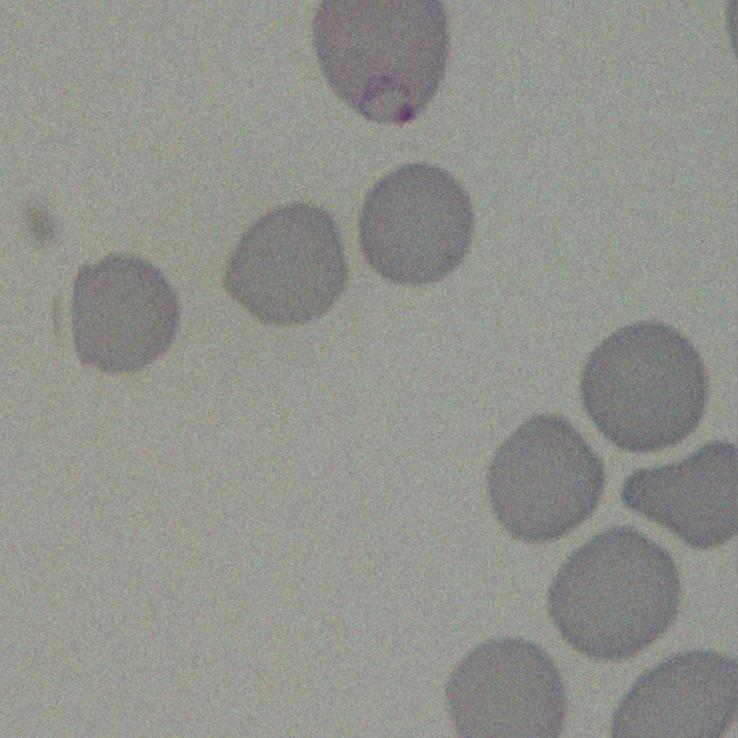Infected: (312, 0, 448, 127)
Uninfected: (582, 317, 715, 454), (554, 521, 681, 659), (486, 411, 604, 542), (226, 201, 347, 324), (360, 159, 472, 287), (68, 247, 179, 372), (624, 441, 738, 551), (444, 637, 568, 738), (608, 647, 738, 738)
